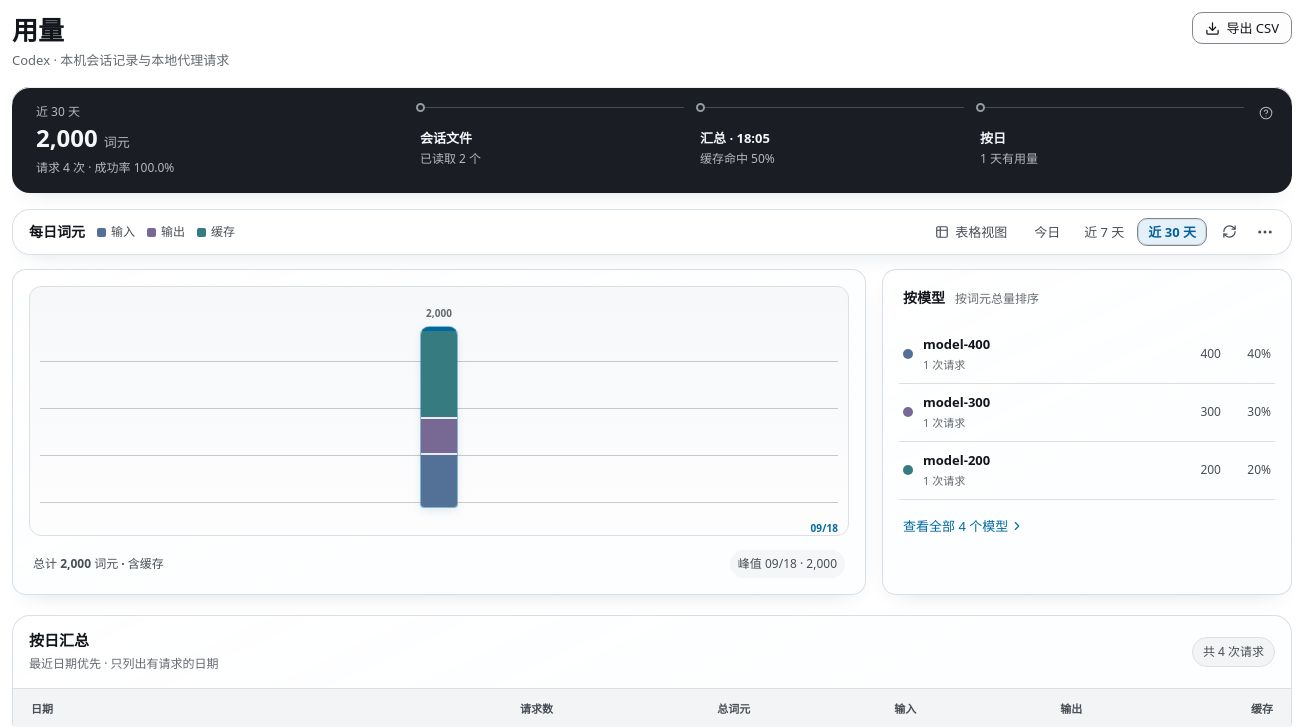
Test: UsageView › uses the backend grain for a 86400-second today query and retains it on failed refresh
This screenshot has width=1304, height=727.
expect the button named "刷新用量" is enabled: met, box [1213, 216, 1245, 248]
Click the button "今日" at (1047, 232), box [1023, 218, 1071, 246]
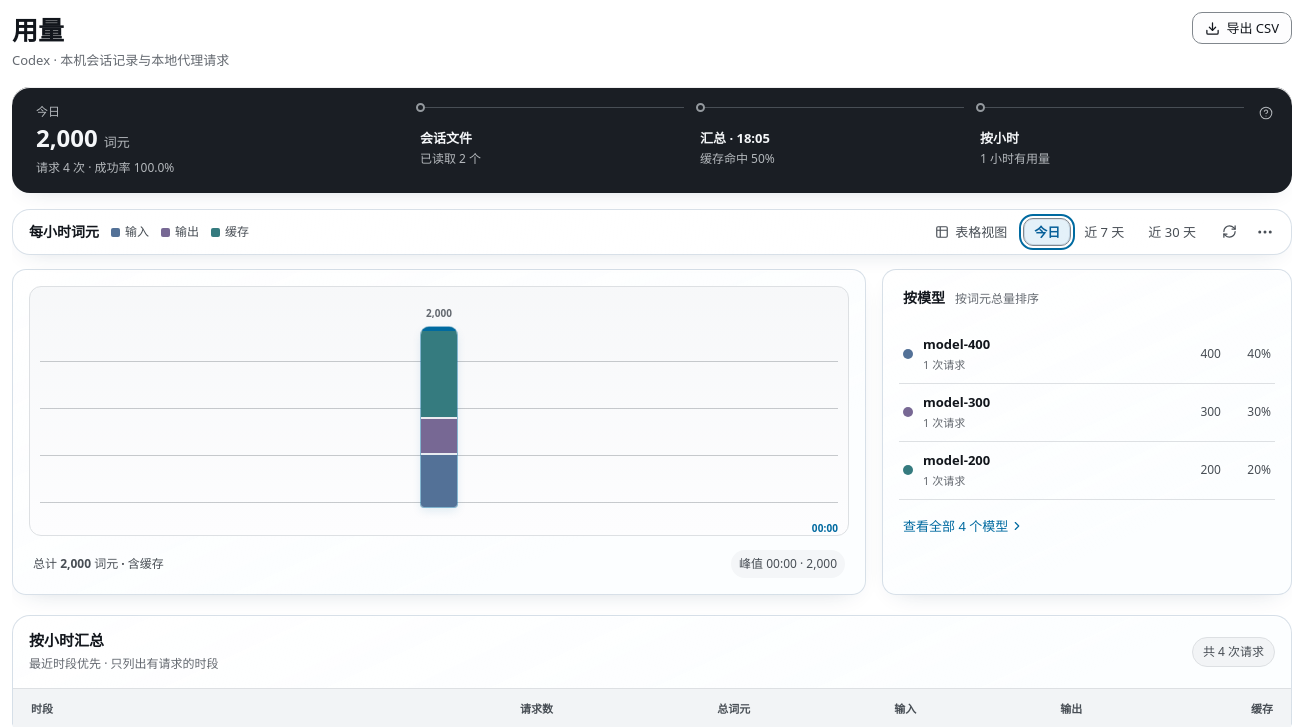
expect the text "每小时词元" is shown: met, box [29, 222, 99, 242]
expect the text "00:00" is shown: met, box [812, 521, 838, 535]
Click the button named "刷新用量" at (1229, 232), box [1213, 216, 1245, 248]
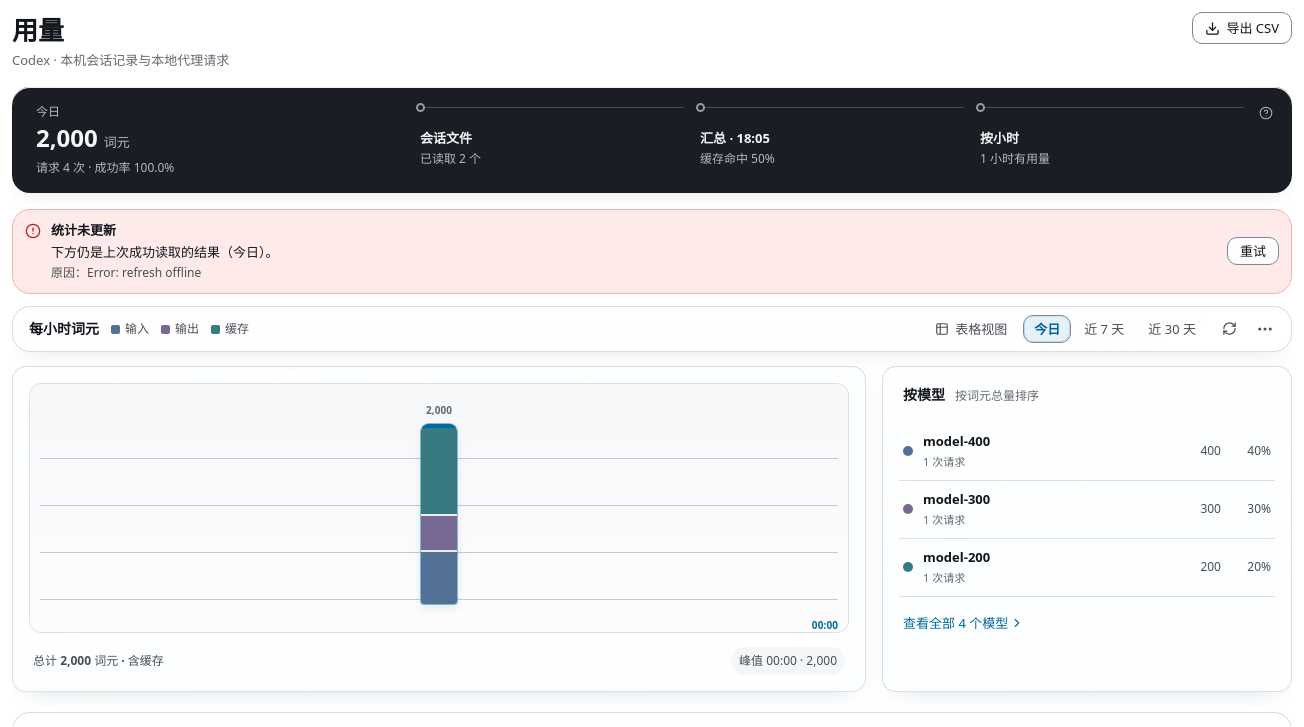
expect the element with class "usage-status-period" shows "今日": met, box [36, 103, 174, 176]
expect the text "每小时词元" is shown: met, box [29, 318, 99, 338]
expect the message shows "下方仍是上次成功读取的结果（今日）": met, box [51, 243, 278, 261]
